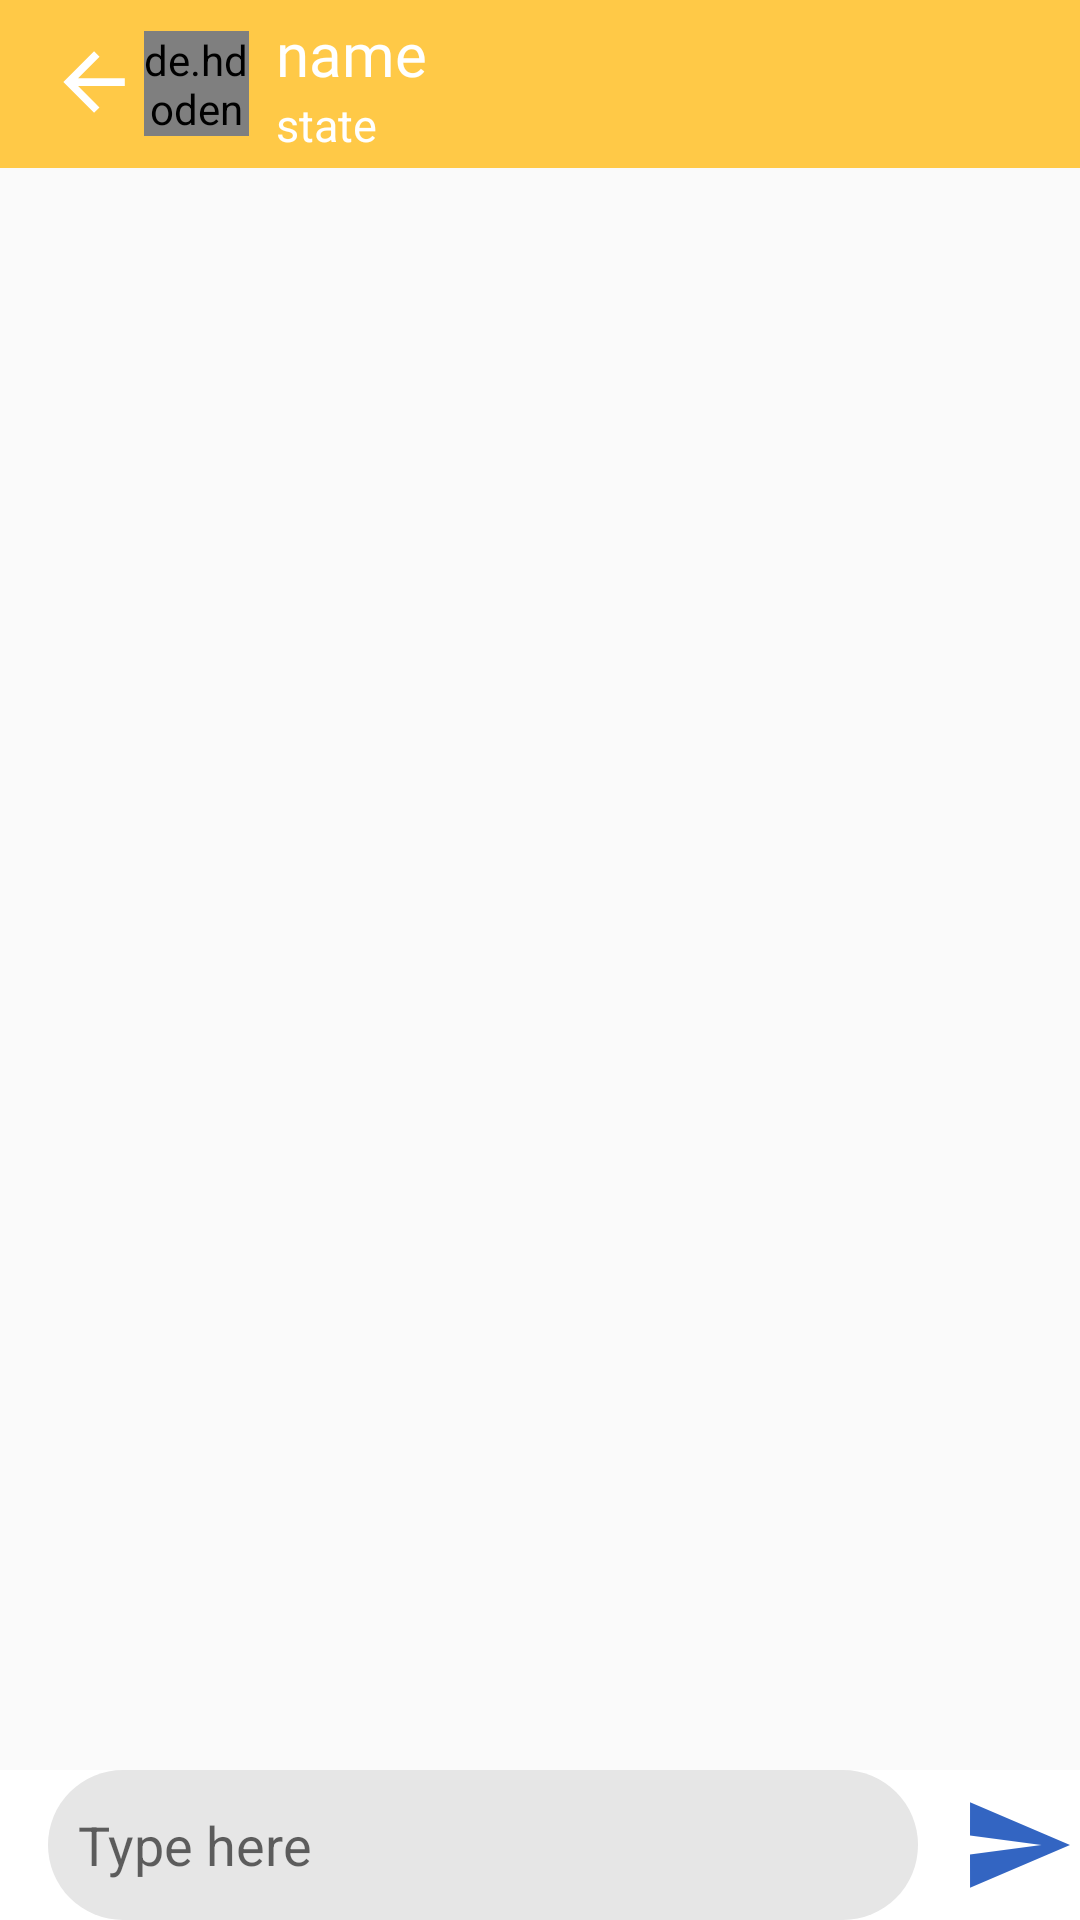

Locate icon controls on the screen. Image size 1080px×1920px, boxes as (x1, y1, x2, y2).
arrow back: (63, 51, 125, 113)
send: (970, 1802, 1070, 1888)
